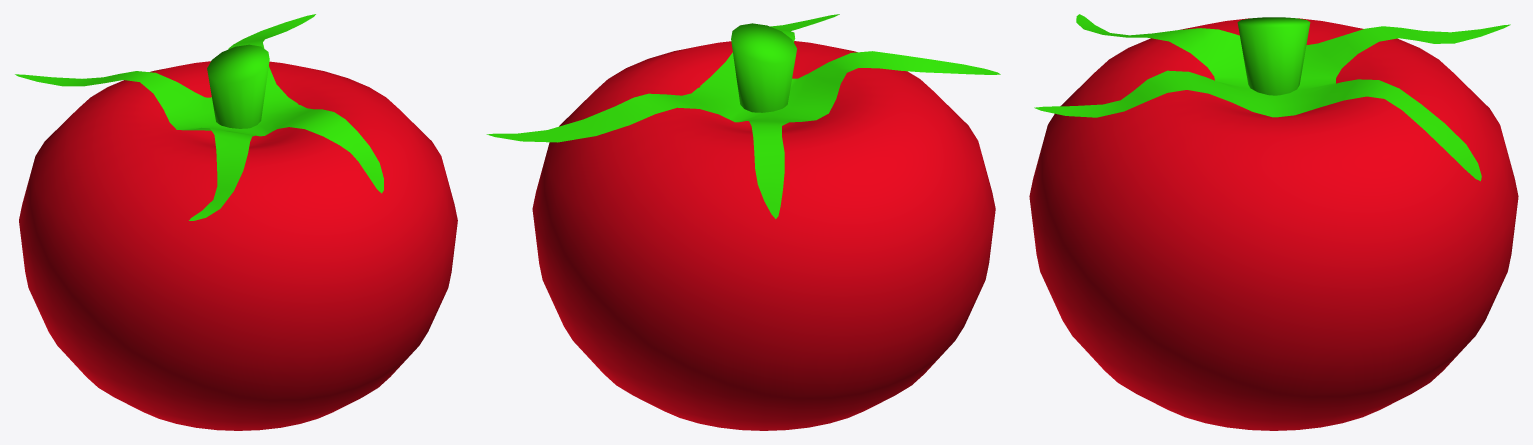
The model's file is Tomate.fbx.
The picture shows the model from 3 angles, left to right: view 1: azimuth 30°, elevation 25°; view 2: azimuth 150°, elevation 25°; view 3: azimuth 270°, elevation 25°; orthographic projection. The views are drawn at different scales.
Parts seen in each view (by area): view 1: Cylinder.002; view 2: Cylinder.002; view 3: Cylinder.002.
Boxes of the visible parts, x1,y1,x2,y2 form: Cylinder.002: (15,14,457,430); Cylinder.002: (486,14,1000,430); Cylinder.002: (1029,14,1518,430).
Size of the model in its own units: 23.71 by 20.81 by 23.71.
